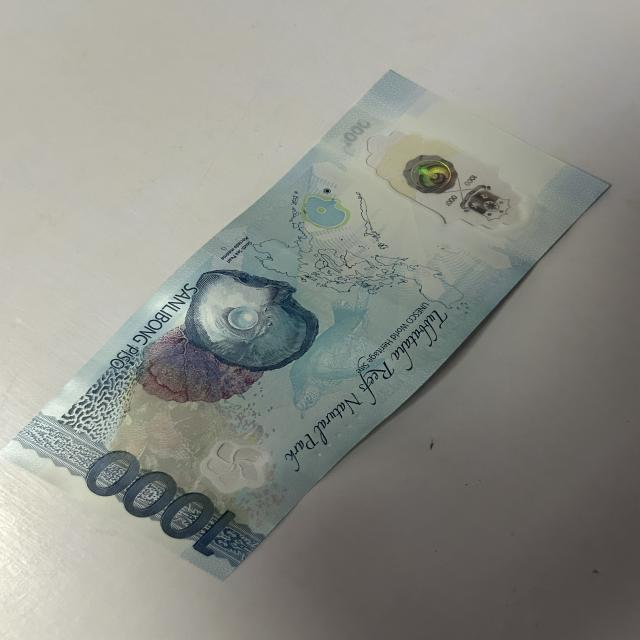clear_window: (350, 125, 530, 232)
sampaguita: (189, 441, 273, 494)
value: (85, 448, 238, 562)
